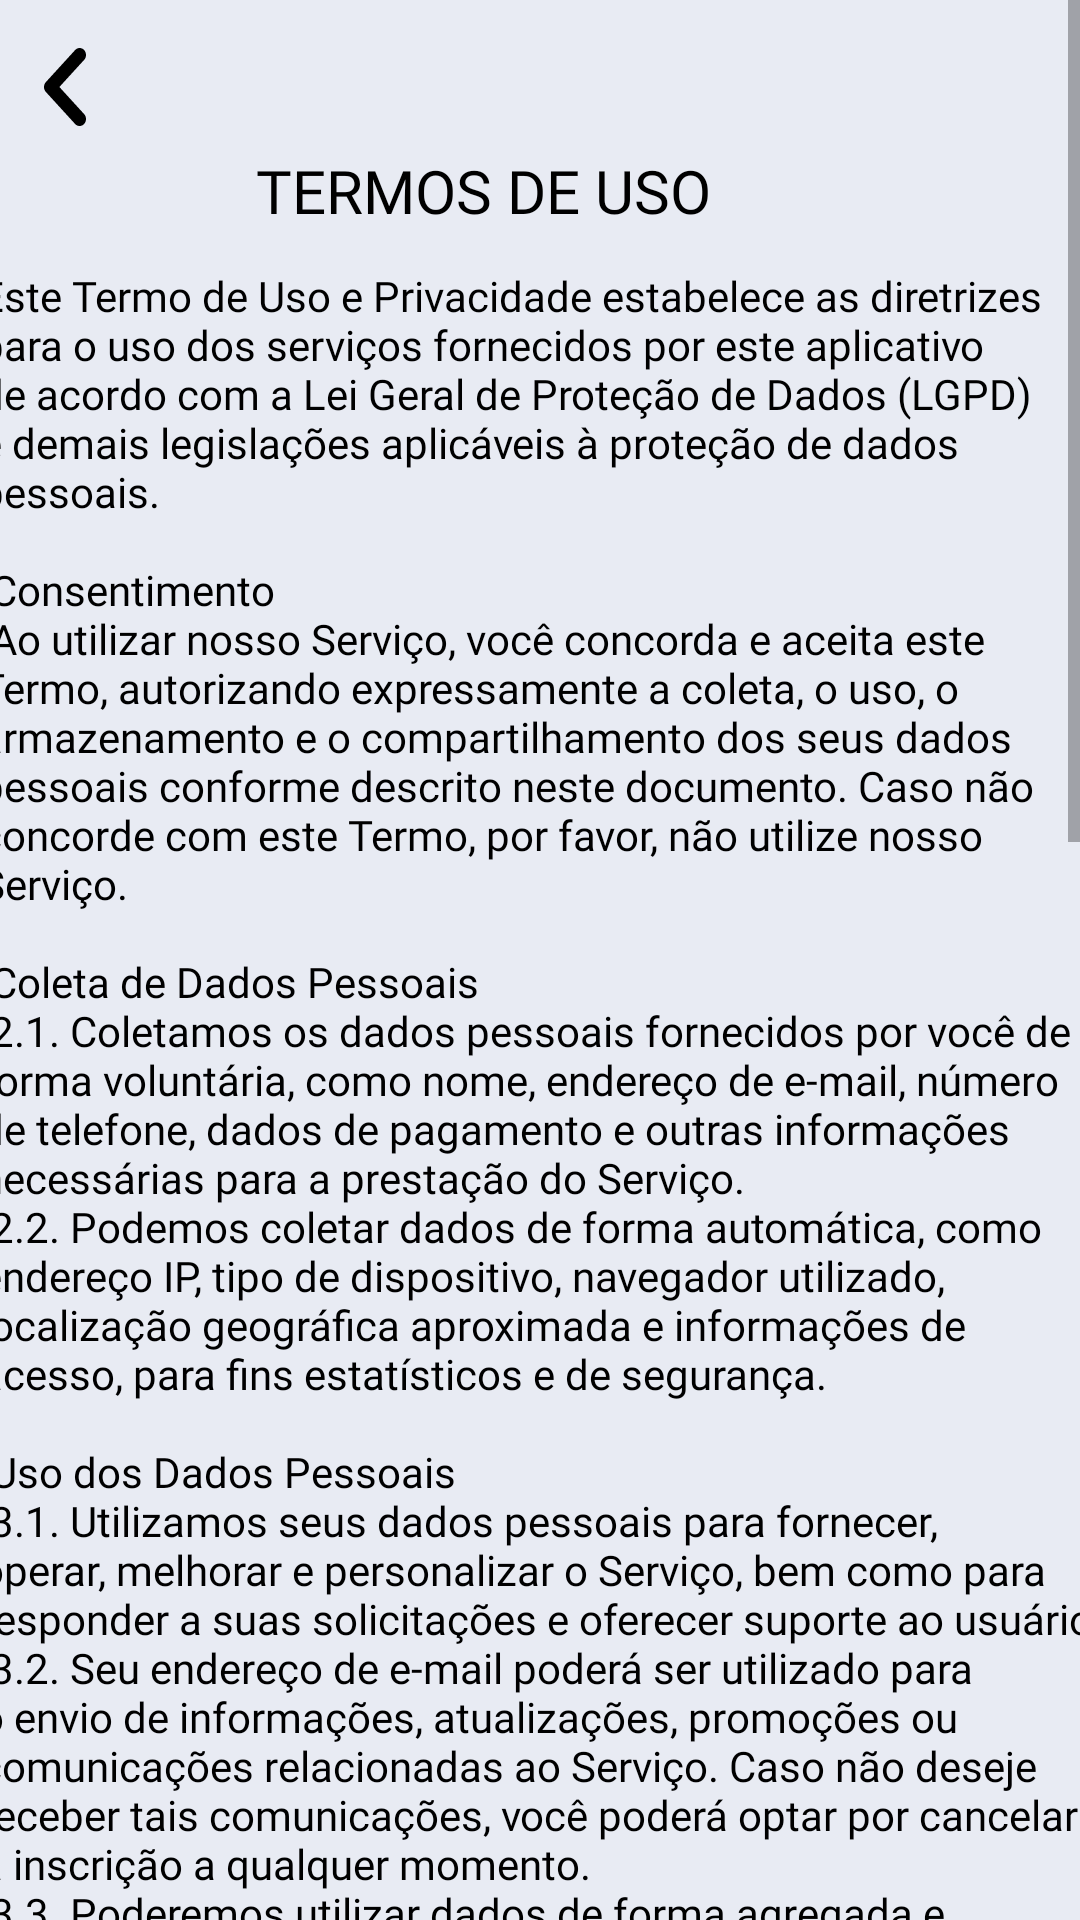

Icon bounding boxes for this 1080*1920 phone screenshot, format (x1, y1, x2, y2):
seta: (44, 48, 86, 126)
